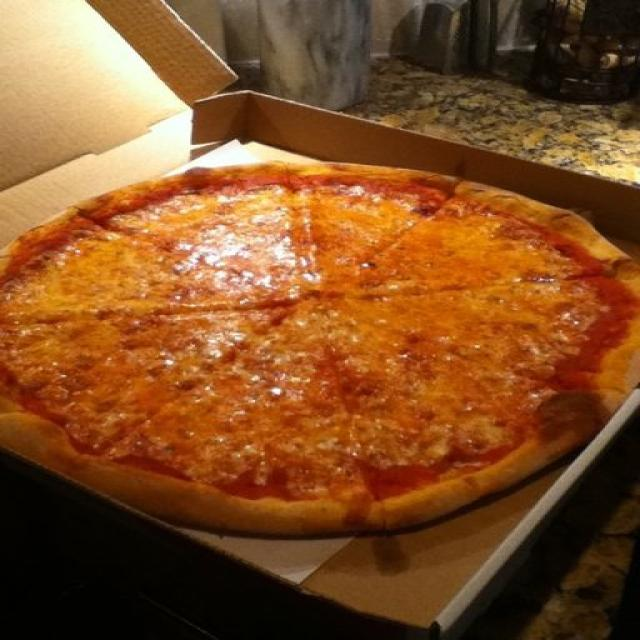Pizza: (0, 165, 640, 535)
